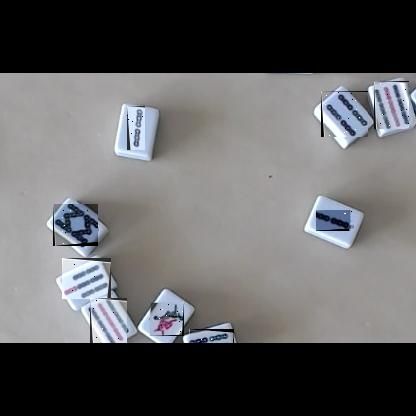1s: (150, 302, 184, 336)
2s: (127, 106, 145, 150), (317, 210, 354, 231)
4s: (321, 91, 368, 137)
6s: (189, 329, 234, 343)
7s: (62, 258, 111, 299)
8s: (53, 204, 98, 246)
9s: (374, 81, 409, 129), (90, 298, 127, 343)
